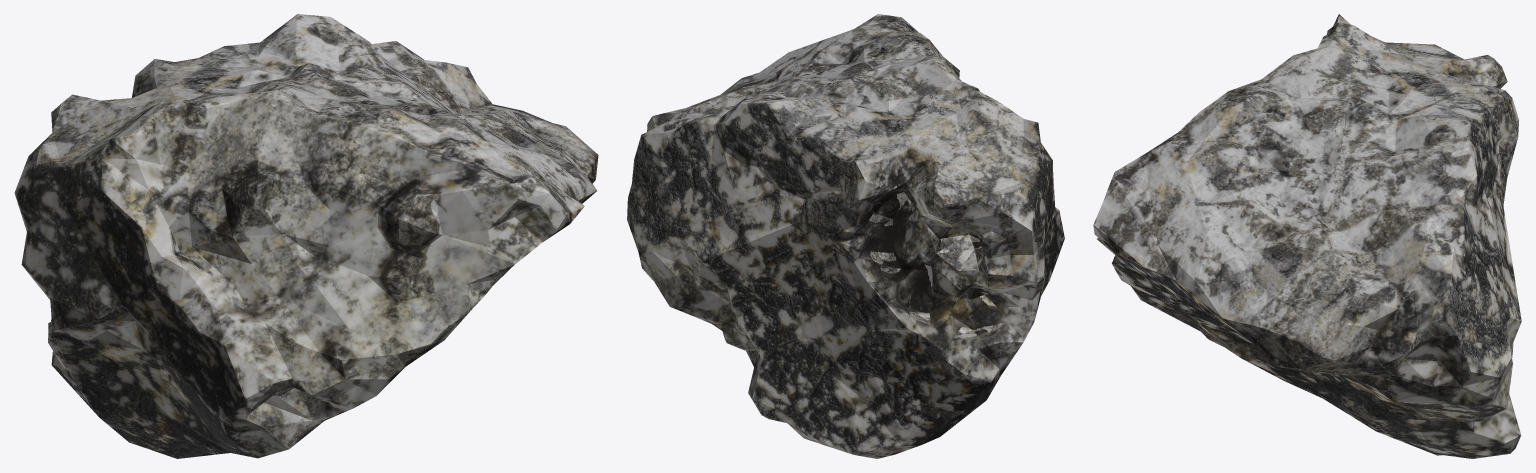
Rendered from GRO17099-0_whole.fbx.
The picture shows the model from 3 angles, left to right: view 1: azimuth 30°, elevation 25°; view 2: azimuth 150°, elevation 25°; view 3: azimuth 270°, elevation 25°; orthographic projection. The views are drawn at different scales.
Visible parts, largest first — view 1: GRO17099-0_whole; view 2: GRO17099-0_whole; view 3: GRO17099-0_whole.
Boxes of the visible parts, left/top/right/bottom form: GRO17099-0_whole: left=14, top=14, right=598, bottom=458; GRO17099-0_whole: left=627, top=14, right=1064, bottom=458; GRO17099-0_whole: left=1093, top=14, right=1521, bottom=458.
Size of the model in its own units: 51.55 by 39.06 by 38.28.
